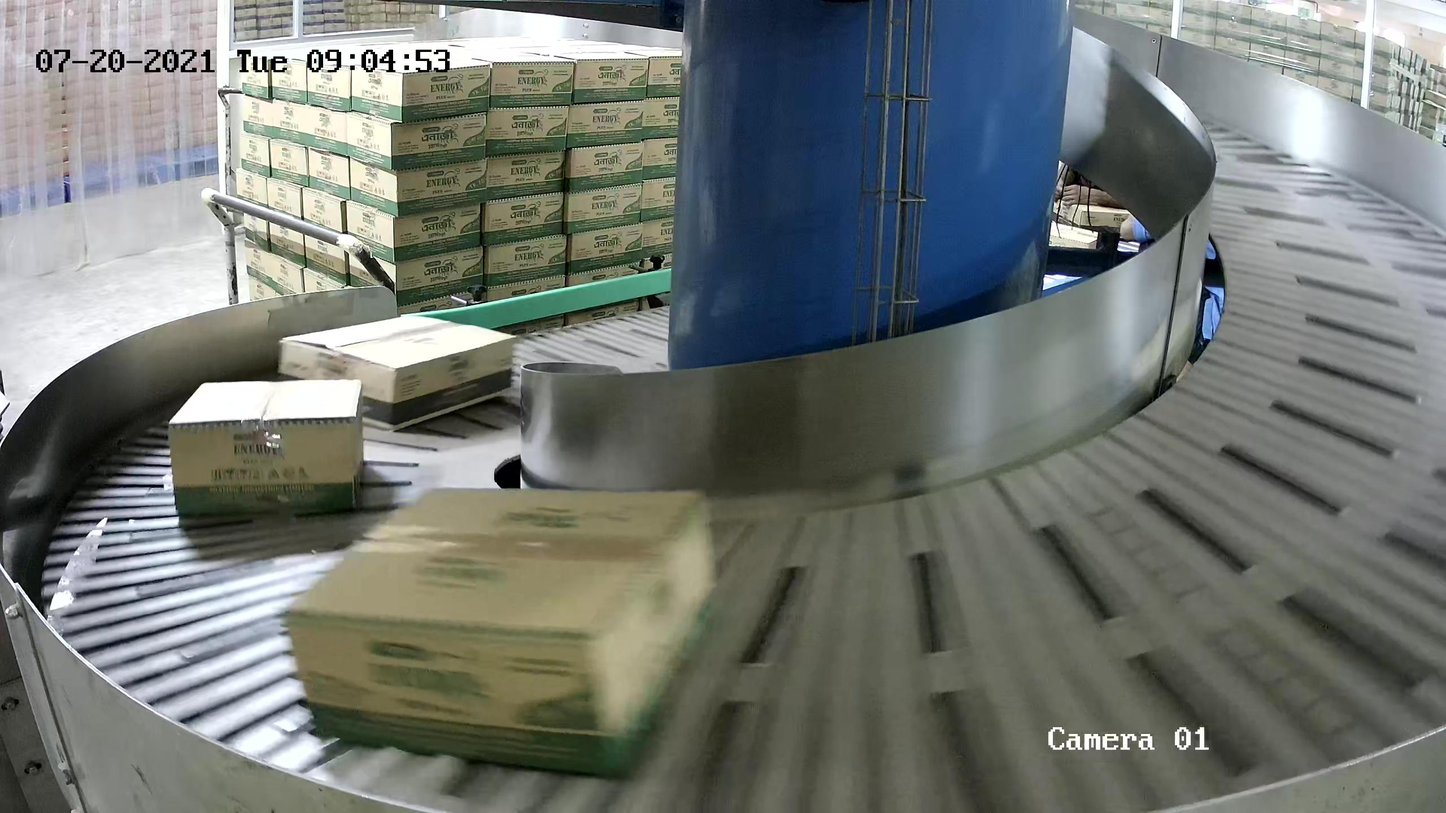Box: (277, 486, 720, 782), (275, 313, 517, 436), (171, 377, 362, 523)
